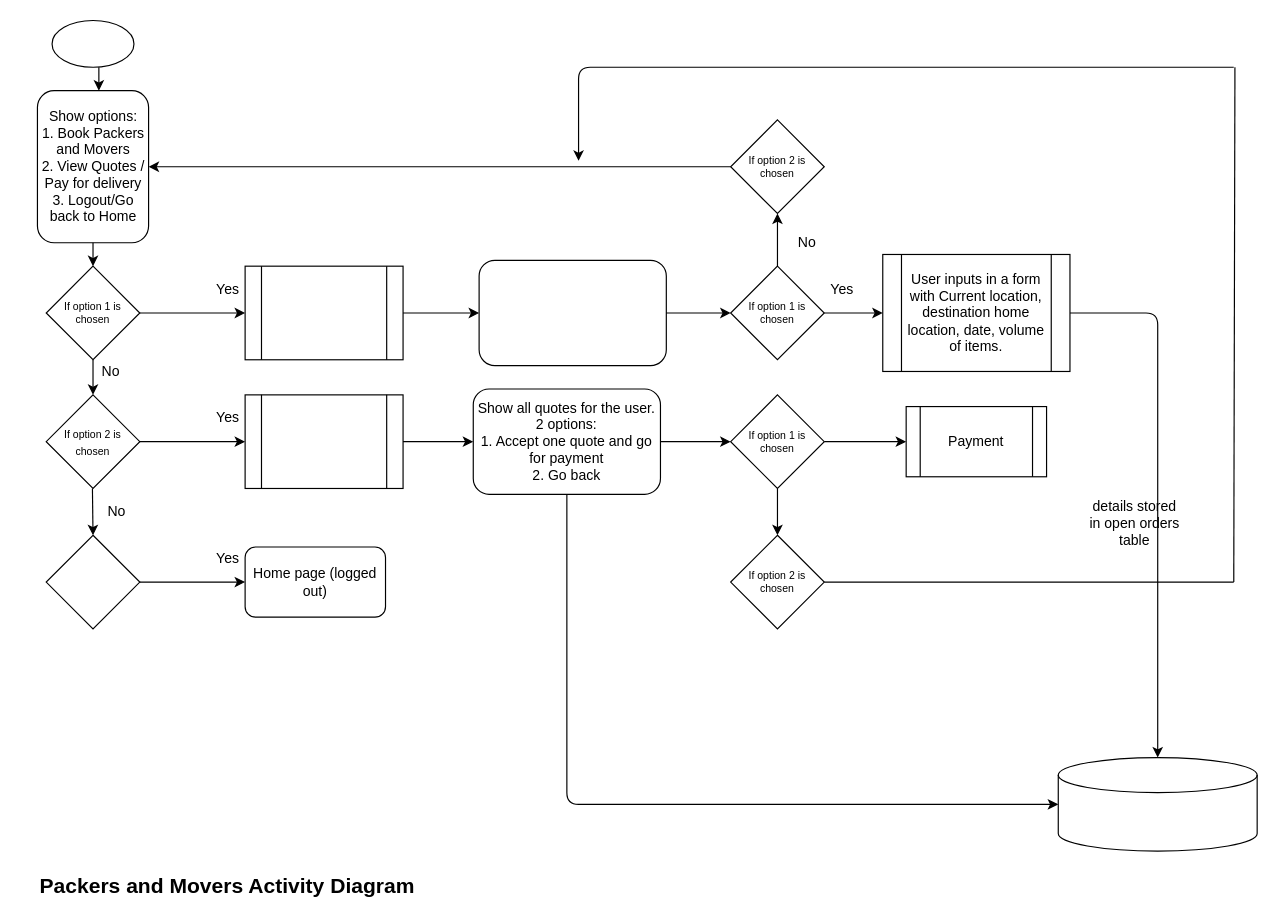
Some shapes in this 1278 by 920 pixel diagram are drawn without their labels. Here are the shapes that lost their labels. From the top down, the centre of each, then its label:
At (x=92, y=43): "Start".
At (x=323, y=312): "Book Packers and Movers Page".
At (x=572, y=312): "2 options: 1. Book Packers and Movers by filling details. 2. Go back.".
At (x=323, y=441): "Quotes Page".
At (x=92, y=581): "If option 3 is chosen".
At (x=1157, y=803): "Database".
